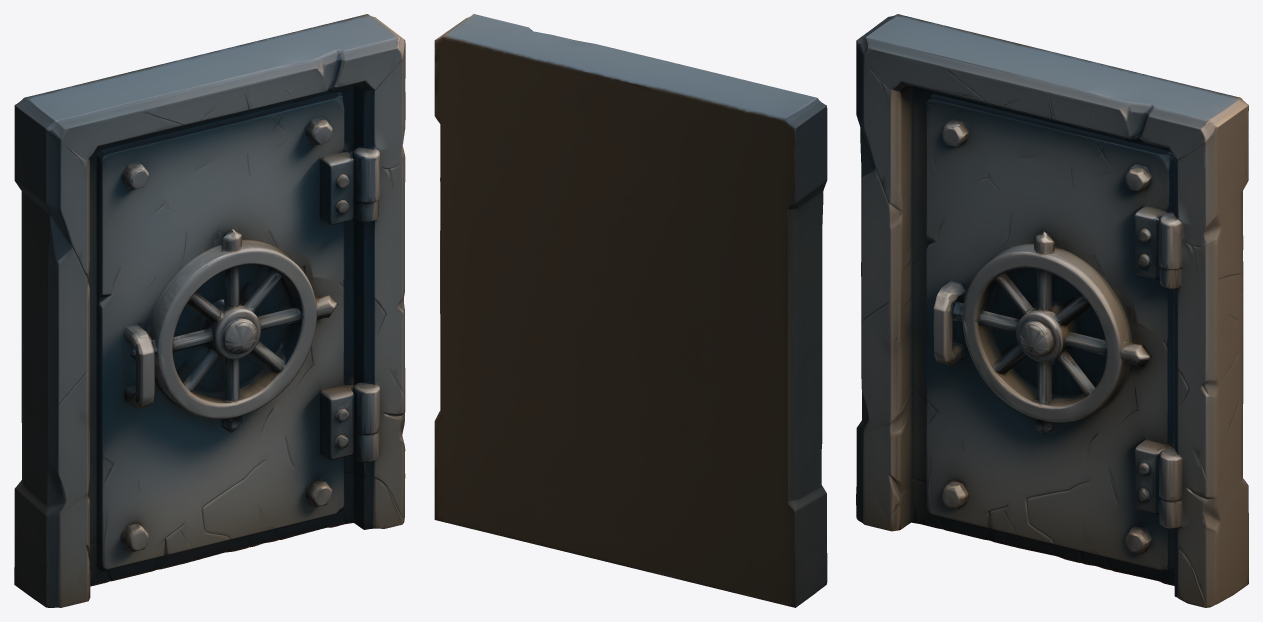
The model's file is OH_Dossier.fbx.
3 renders of one model, left to right at view 1: azimuth 30°, elevation 25°; view 2: azimuth 150°, elevation 25°; view 3: azimuth 330°, elevation 25°, orthographic.
Visible parts, largest first — view 1: node_0; view 2: node_0; view 3: node_0.
Part boxes in pixels (<box>): node_0: <box>14,14,405,607</box>; node_0: <box>434,14,827,607</box>; node_0: <box>856,14,1248,607</box>.
Size of the model in its own units: 73.33 by 94.07 by 14.64.
Materials: 1 (1 with a texture image).
